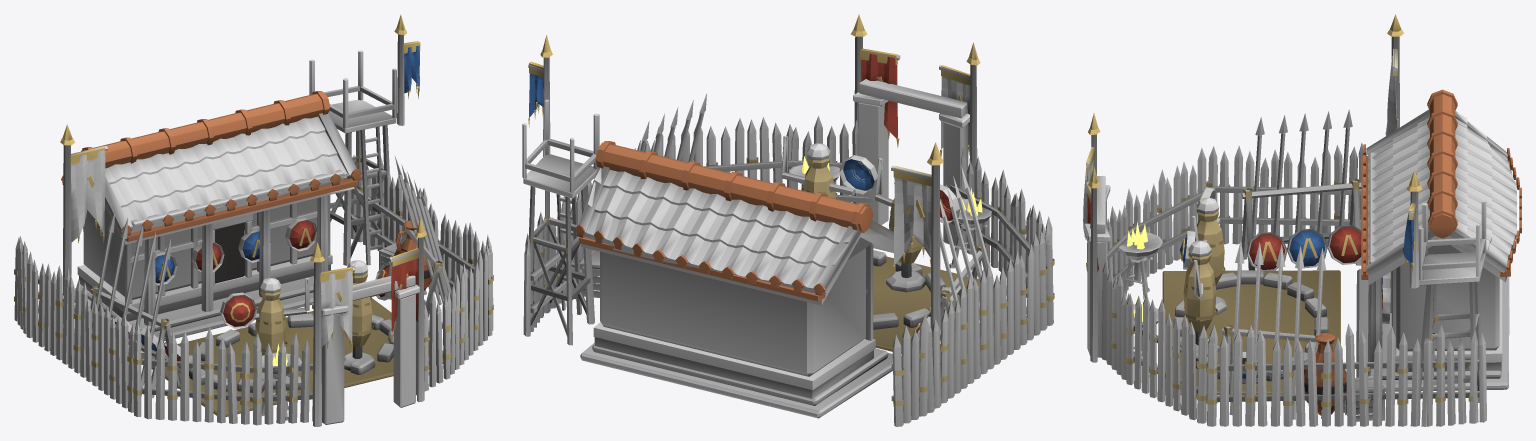
The model's file is spear-camp-l1.glb.
The picture shows the model from 3 angles, left to right: view 1: azimuth 30°, elevation 25°; view 2: azimuth 150°, elevation 25°; view 3: azimuth 270°, elevation 25°; orthographic projection. The views are drawn at different scales.
Visible parts, largest first — view 1: spear-camp-l1; view 2: spear-camp-l1; view 3: spear-camp-l1.
Boxes of the visible parts, left/top/right/bottom form: spear-camp-l1: left=14, top=14, right=493, bottom=426; spear-camp-l1: left=522, top=14, right=1054, bottom=426; spear-camp-l1: left=1083, top=14, right=1521, bottom=426.
Size of the model in its own units: 1.61 by 0.9896 by 1.51.
